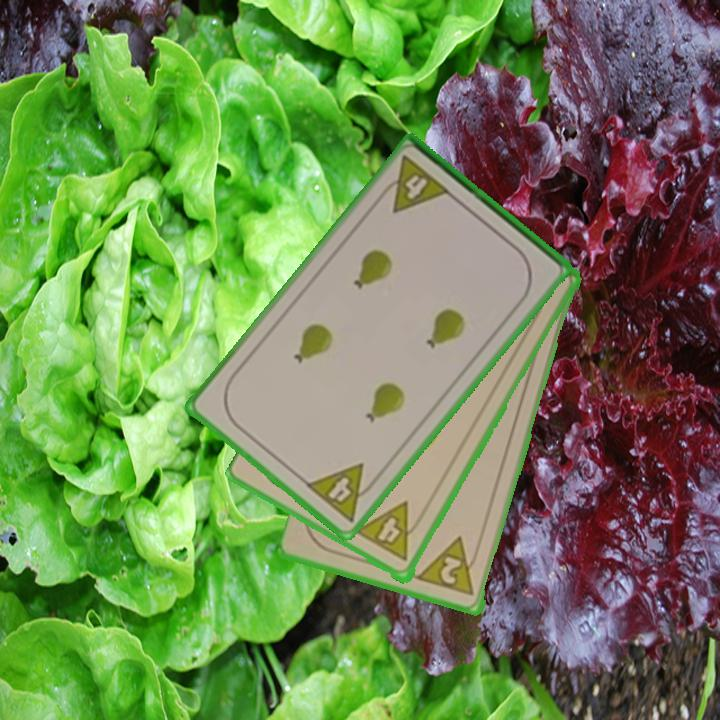2p: (416, 534, 482, 600)
4p: (302, 459, 382, 526), (375, 152, 453, 216), (353, 499, 428, 565)
